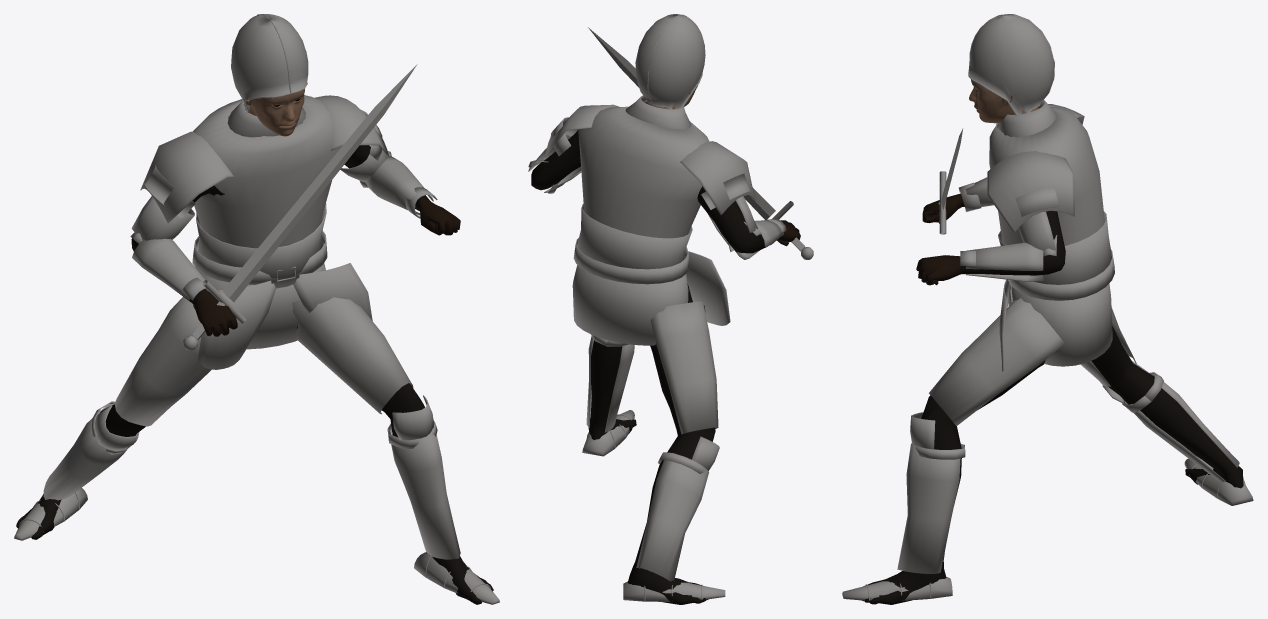
File: knight_makehuman.glb
3 views of the same model, side by side, from view 1: azimuth 30°, elevation 25°; view 2: azimuth 150°, elevation 25°; view 3: azimuth 270°, elevation 25° (orthographic). The views are drawn at different scales.
Visible parts, largest first — view 1: SilverKnight_Static_MakeHuman; view 2: SilverKnight_Static_MakeHuman; view 3: SilverKnight_Static_MakeHuman.
Boxes of the visible parts, x1,y1,x2,y2 form: SilverKnight_Static_MakeHuman: (14, 14, 499, 604); SilverKnight_Static_MakeHuman: (528, 14, 813, 604); SilverKnight_Static_MakeHuman: (842, 14, 1253, 604).
Size of the model in its own units: 1.04 by 1.8 by 1.28.
Materials: 1 (1 with a texture image).
